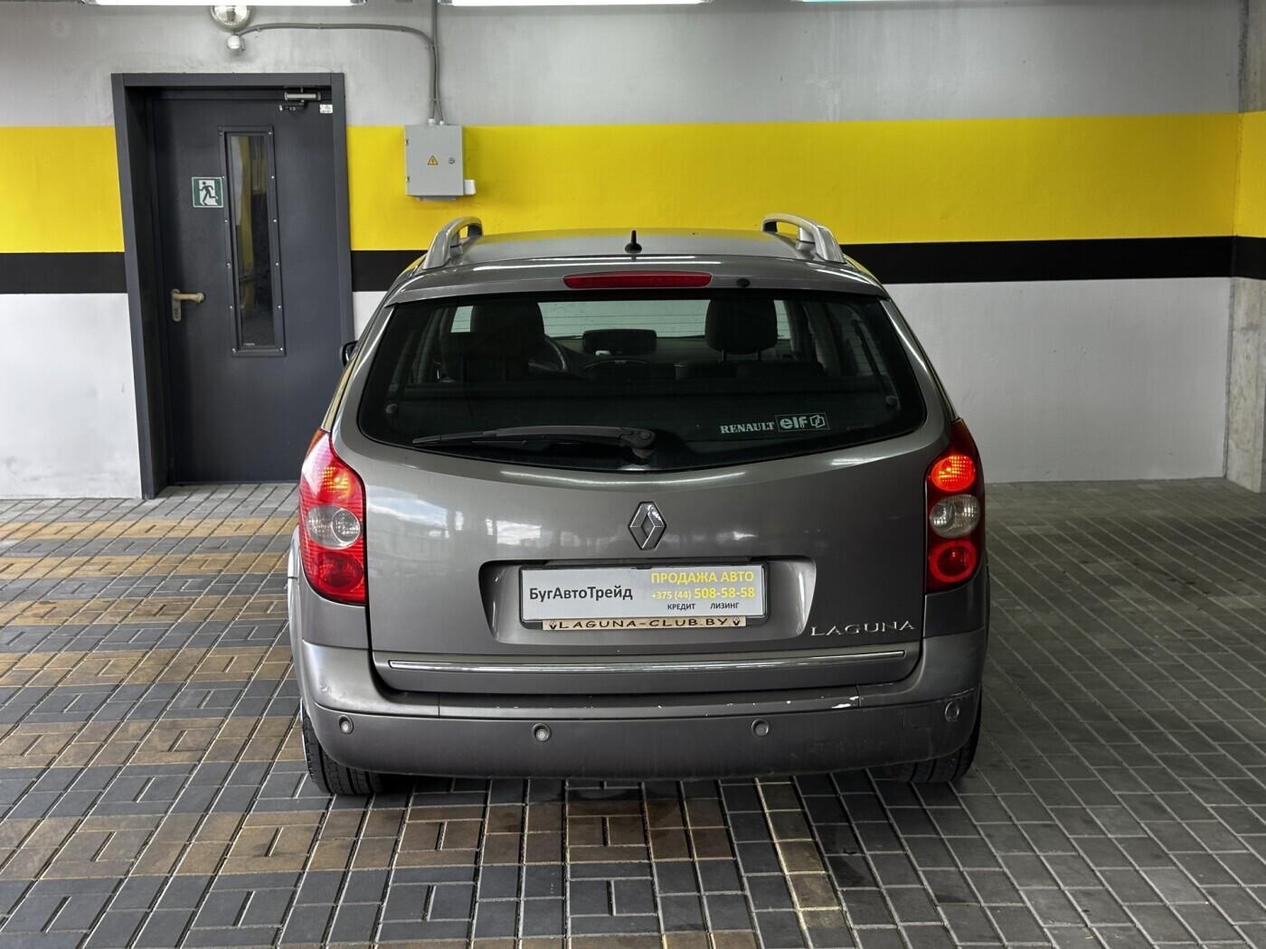Laguna_2005-2007: (284, 217, 1001, 815)
